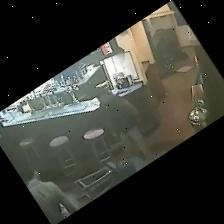person: (97, 88, 155, 162), (21, 167, 76, 223)
